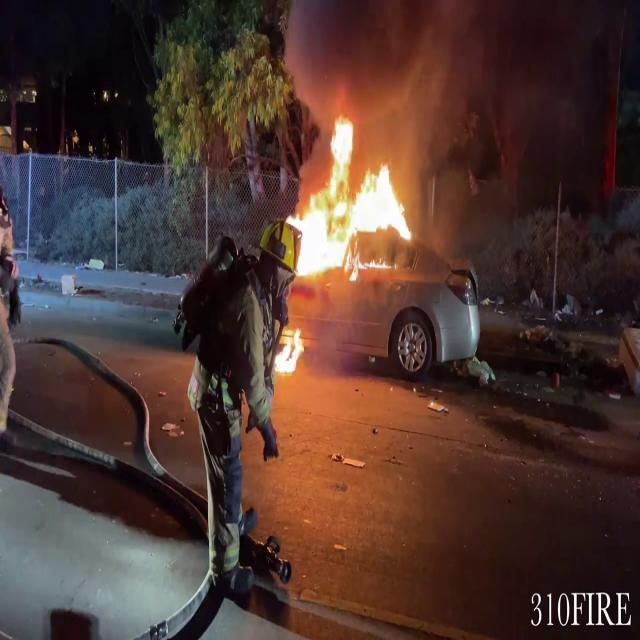Fire: (281, 111, 421, 282), (272, 317, 309, 379)
Smoke: (280, 0, 472, 144)
